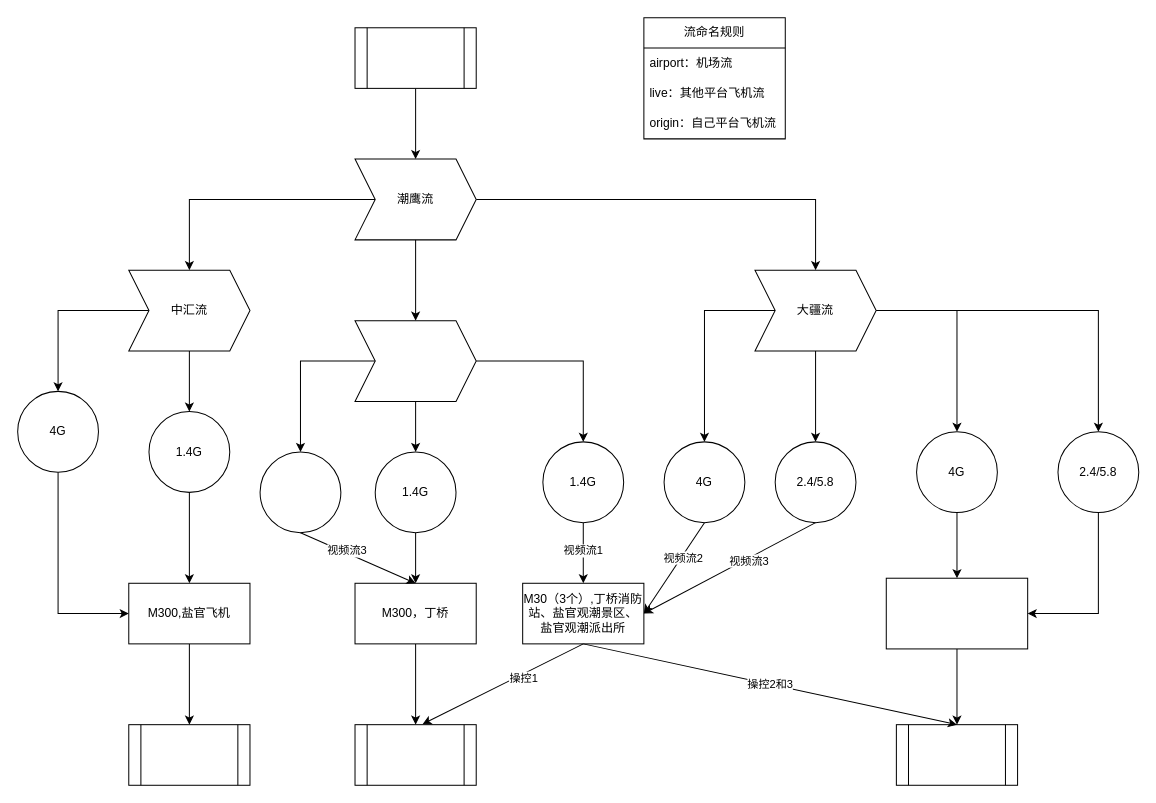
This 1156x803 diagram has some shape labels left out. Here are the shapes that lost their labels. From the top down, the centre of each, then its label:
At [415,57]: "潮鹰视频平台".
At [415,360]: "唯识流".
At [300,492]: "4/5G".
At [956,613]: "M30（5个），盐官祝会村、盐官京都影视城、丁桥新仓村、丁桥派出所、丁桥九方汽检".
At [189,754]: "中汇操控平台".
At [415,754]: "唯识操控平台".
At [956,754]: "私有化 司空操控平台".
